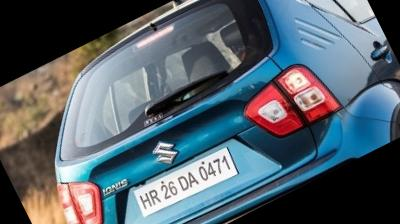plate: (124, 131, 252, 224)
